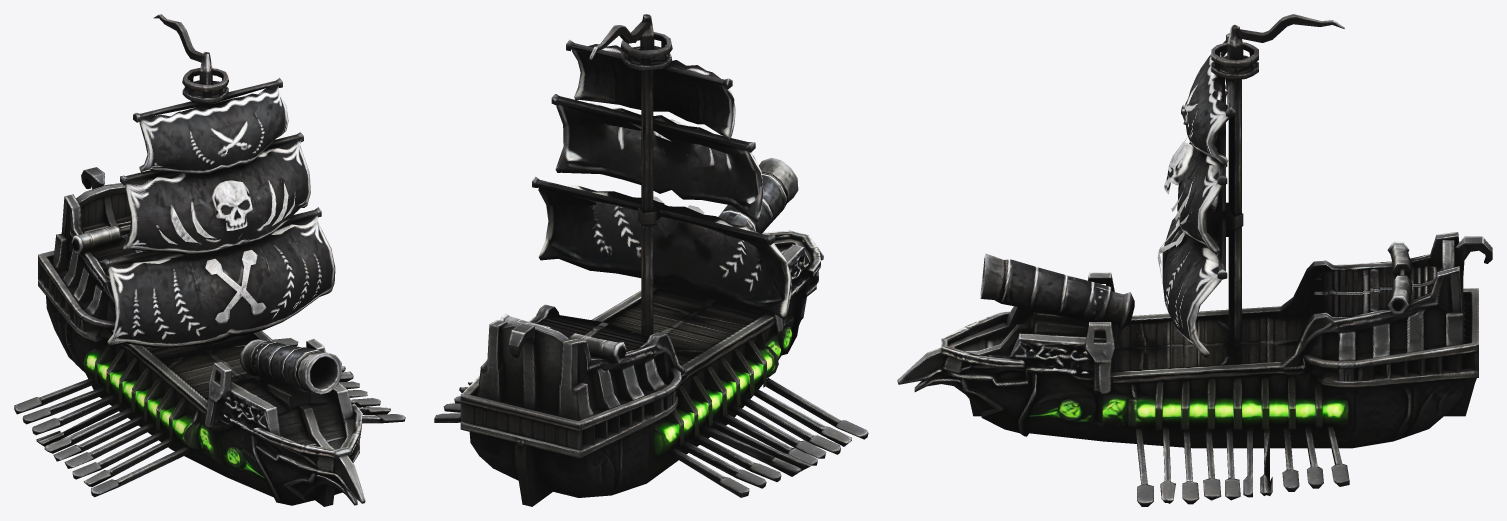
Rendered from base_basic_gameplay_shaded.glb.
3 views of the same model, side by side, from view 1: azimuth 30°, elevation 25°; view 2: azimuth 150°, elevation 25°; view 3: azimuth 270°, elevation 25° (orthographic). The views are drawn at different scales.
Parts seen in each view (by area): view 1: model; view 2: model; view 3: model.
Part boxes in pixels (x1,y1,x2,y2): model: [14, 14, 405, 506]; model: [434, 14, 868, 506]; model: [897, 14, 1492, 506].
Bounding box in the file's own units: 1.23 × 1.46 × 1.9.
Materials: 1 (1 with a texture image).
